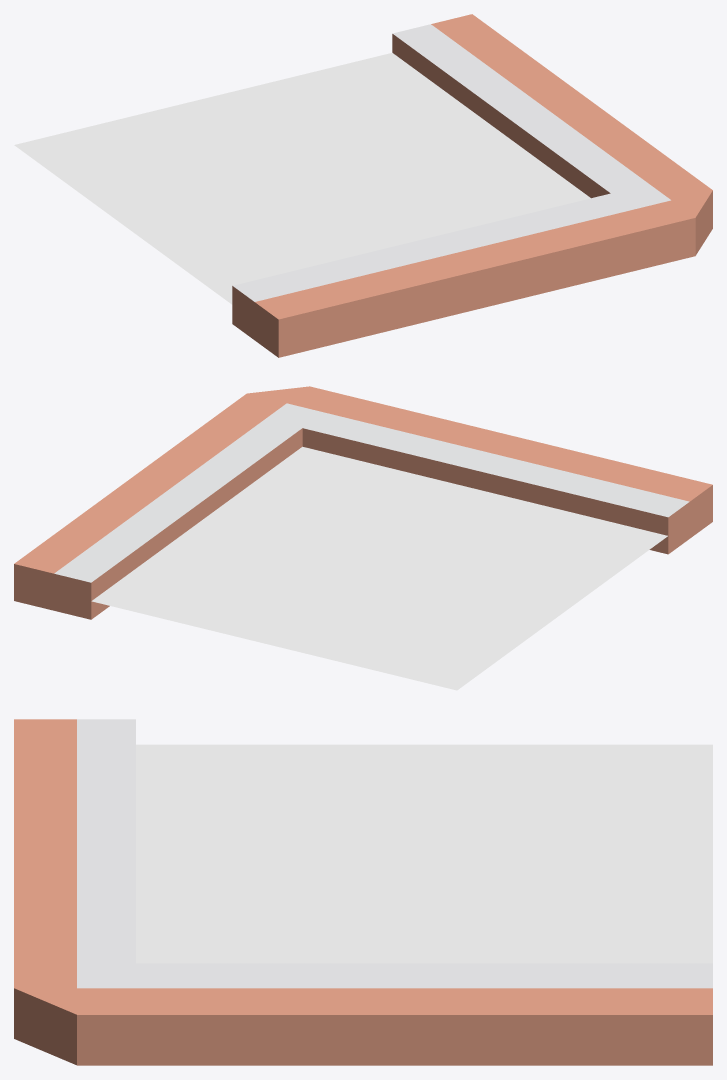
File: metalTileConnectCorner.glb
3 views of the same model, one above another, from view 1: azimuth 30°, elevation 25°; view 2: azimuth 150°, elevation 25°; view 3: azimuth 270°, elevation 25° (orthographic). The views are drawn at different scales.
Parts seen in each view (by area): view 1: metalTileConnectCorner; view 2: metalTileConnectCorner; view 3: metalTileConnectCorner.
Boxes of the visible parts, x1,y1,x2,y2 form: metalTileConnectCorner: (14, 14, 712, 357); metalTileConnectCorner: (14, 386, 712, 690); metalTileConnectCorner: (14, 719, 712, 1065).
Size of the model in its own units: 10 by 0.8 by 10.
